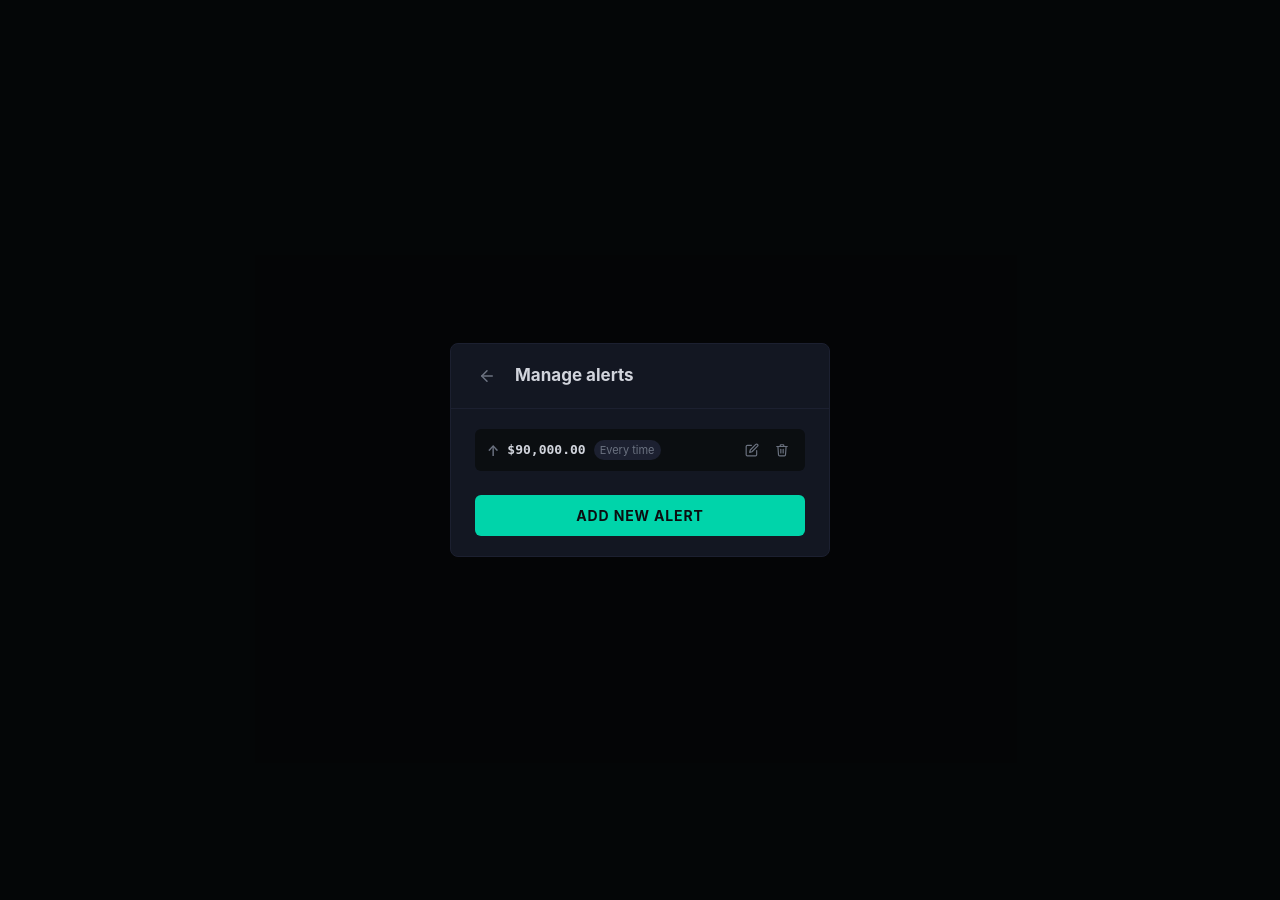
Scenario: AlertModal › should go back to manage screen when back is clicked and alerts exist
The image size is (1280, 900).
What coordinates should you click on to do the following:
click the button "Add new alert"
I would click on:
 (640, 516)
Its box is [475, 495, 805, 536].
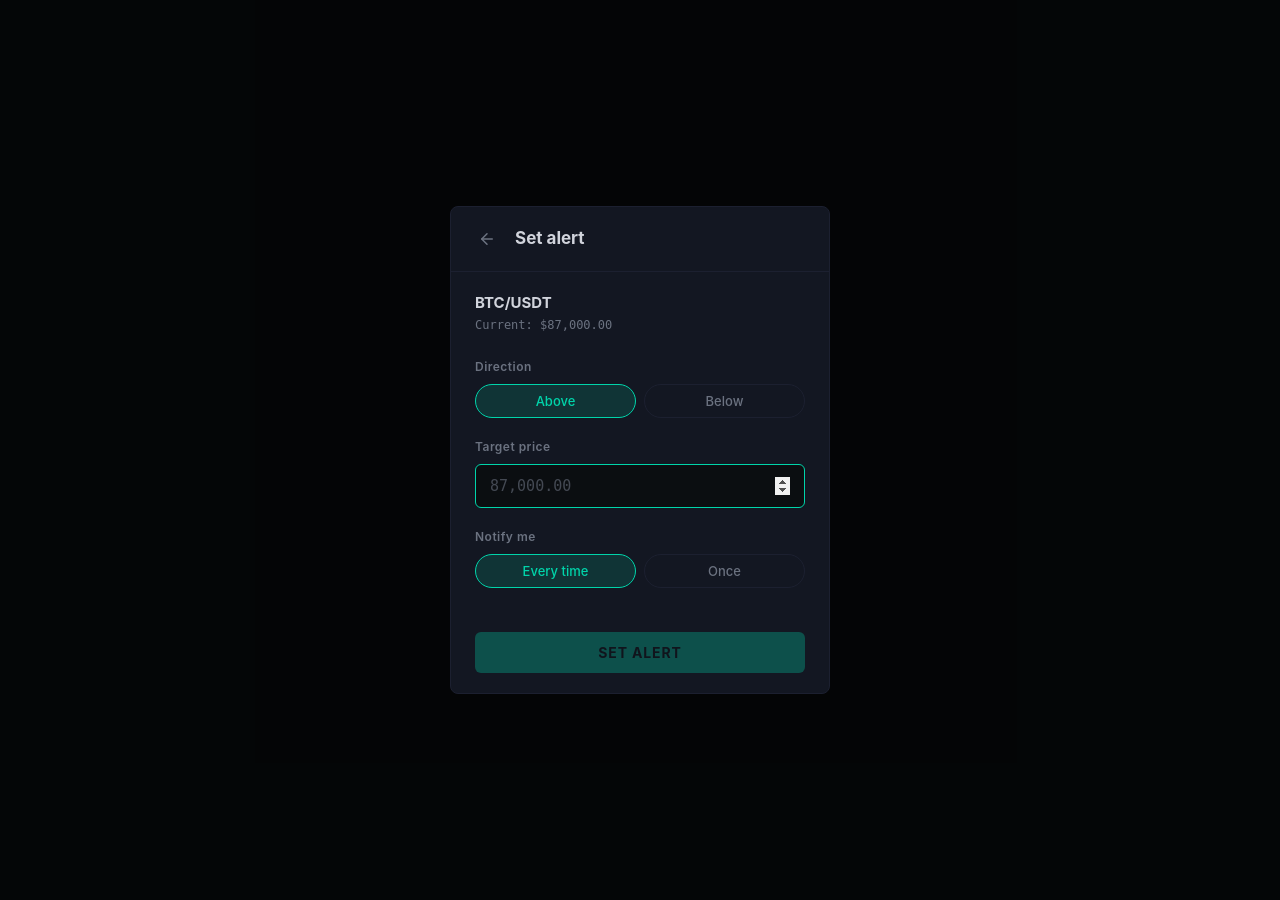
Expected: the text "Set alert" is shown, [515, 226, 585, 252]
What coordinates should you click on to do the following:
click the 1st button
I would click on:
 (487, 239)
Its box is [471, 223, 503, 255].
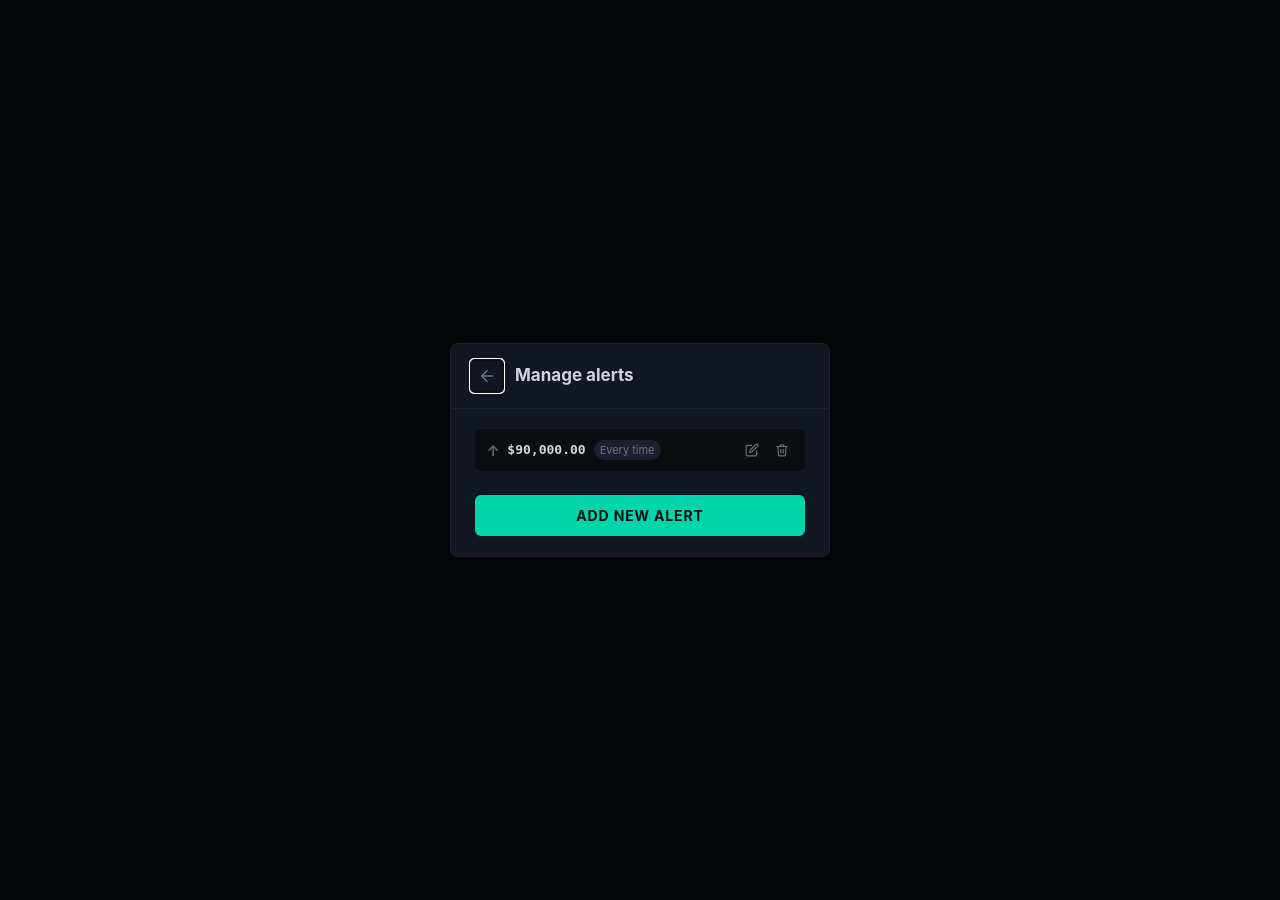
Expected: the text "Manage alerts" is shown, [515, 363, 634, 389]
